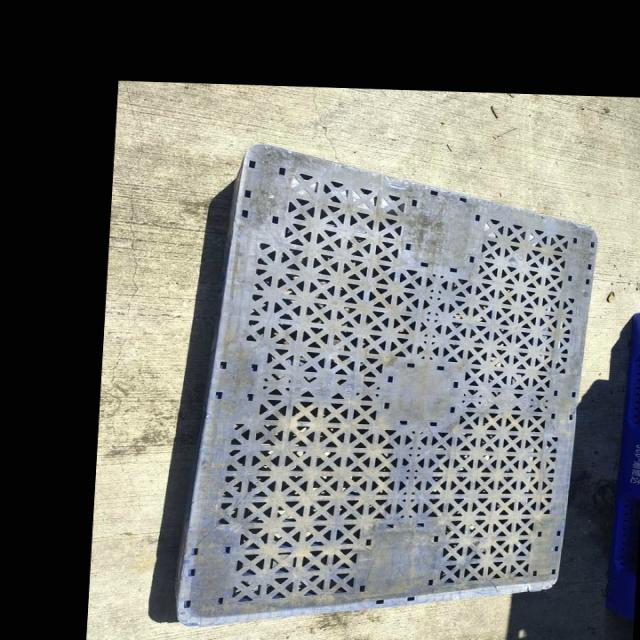non-igps: (171, 140, 604, 629)
